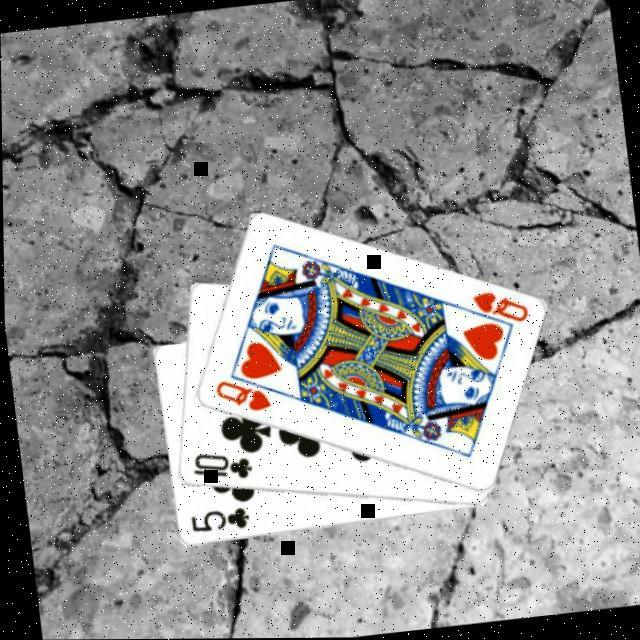10C: (183, 444, 252, 486)
5C: (182, 502, 248, 536)
QH: (452, 284, 529, 334), (206, 371, 271, 416)
